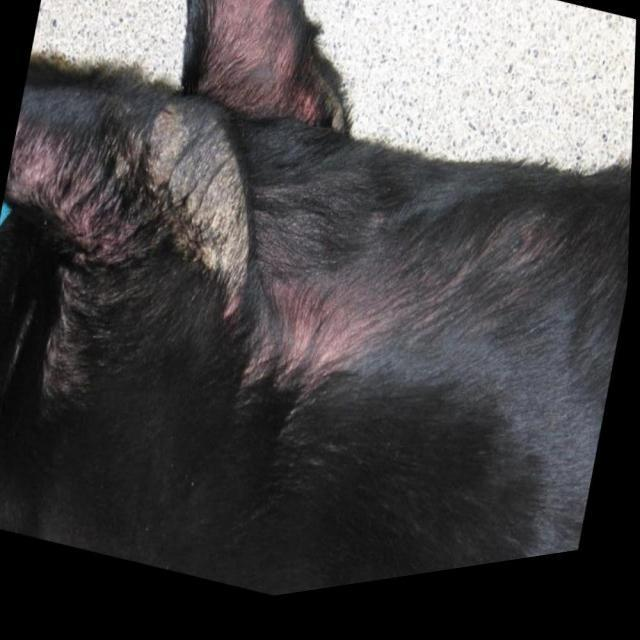allergic dermatitis: (235, 279, 390, 389), (0, 136, 129, 266), (196, 0, 309, 134)
